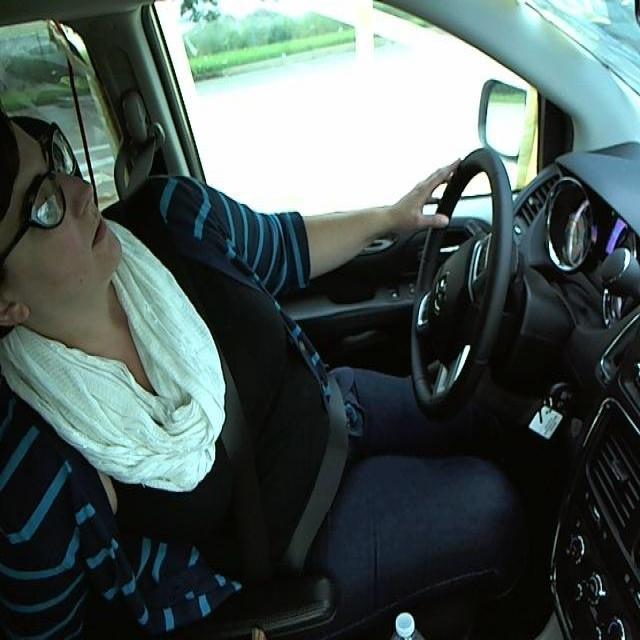seatbelt: (141, 236, 346, 581)
